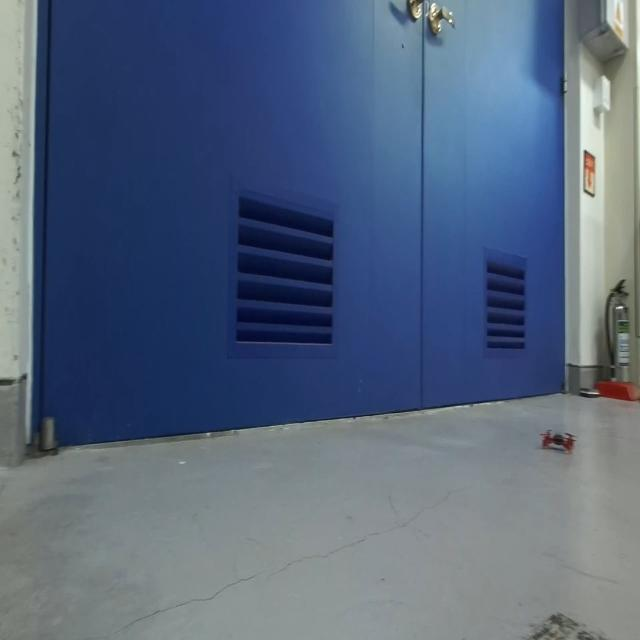crazyflie: (538, 422, 579, 458)
